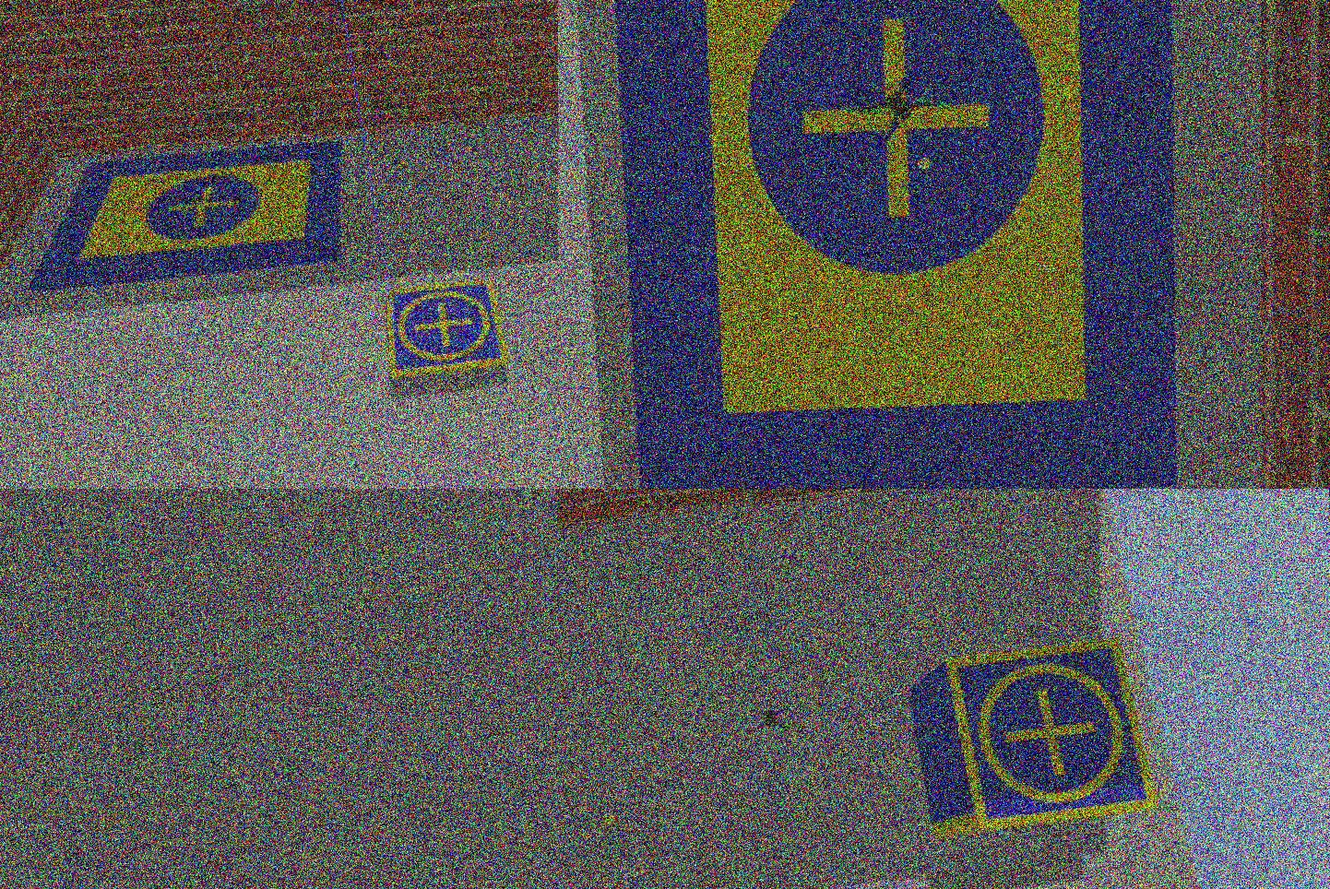large_base: (605, 1, 1180, 490), (21, 145, 349, 297)
small_base: (946, 637, 1163, 836), (386, 275, 513, 382)
